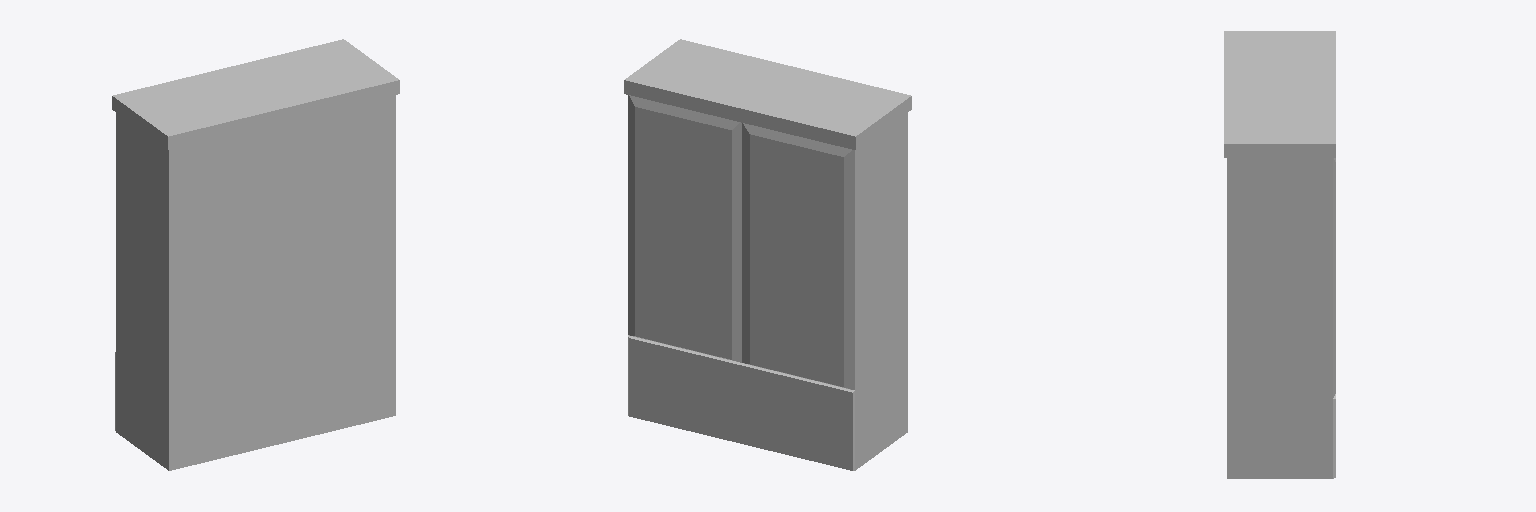
The model's file is Wardrobe.obj.
The picture shows the model from 3 angles: view 1: azimuth 30°, elevation 25°; view 2: azimuth 150°, elevation 25°; view 3: azimuth 270°, elevation 25°; orthographic projection.
Visible parts, largest first — view 1: Wardrobe; view 2: Wardrobe; view 3: Wardrobe.
Boxes of the visible parts, x1=… form: Wardrobe: x1=112, y1=39, x2=399, y2=470; Wardrobe: x1=624, y1=39, x2=911, y2=470; Wardrobe: x1=1224, y1=31, x2=1335, y2=478.
Bounding box in the file's own units: 1.77 × 2.45 × 0.74.